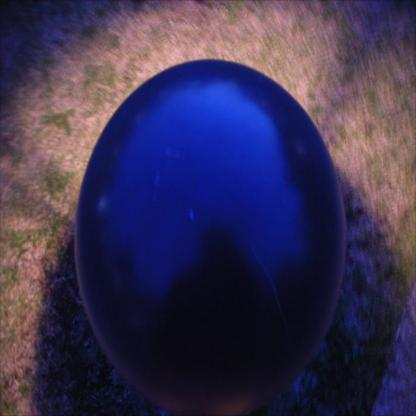Ball: (76, 59, 344, 415)
